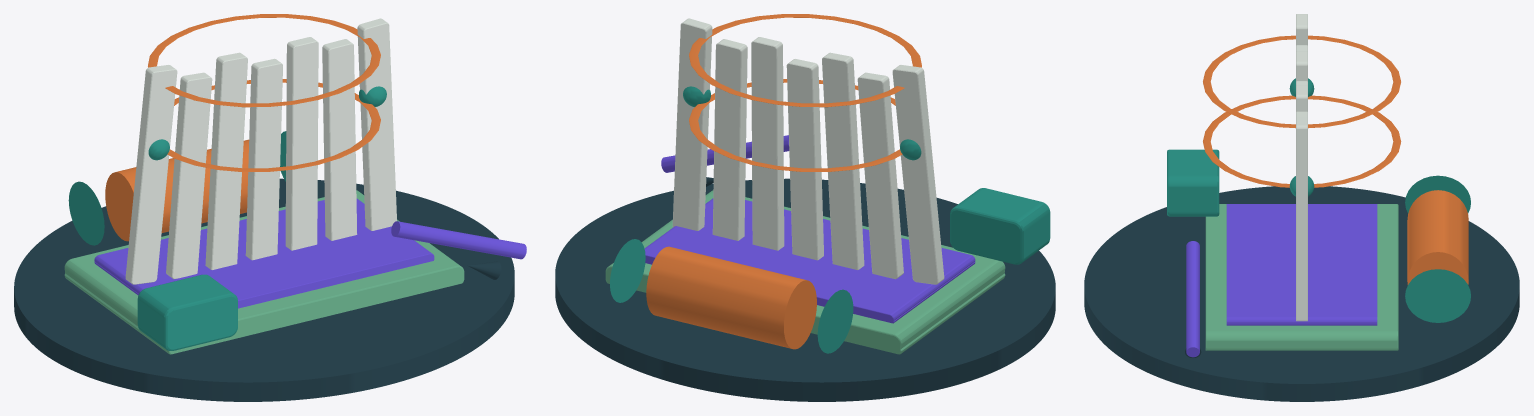
Rendered from 0759_先秦图鉴_稷下学宫.glb.
3 renders of one model, left to right at view 1: azimuth 30°, elevation 25°; view 2: azimuth 150°, elevation 25°; view 3: azimuth 270°, elevation 25°, orthographic. The views are drawn at different scales.
Parts seen in each view (by area): view 1: card_0759; view 2: card_0759; view 3: card_0759.
Part boxes in pixels (x1,y1,x2,y2): card_0759: (14,14,526,401); card_0759: (555,14,1055,401); card_0759: (1084,14,1519,401).
Size of the model in its own units: 1.79 by 1 by 1.66.
